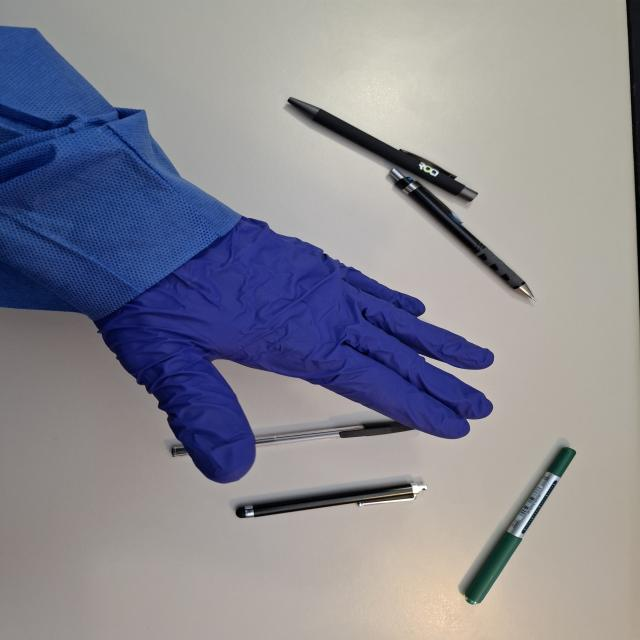glove_on: (82, 212, 498, 486)
